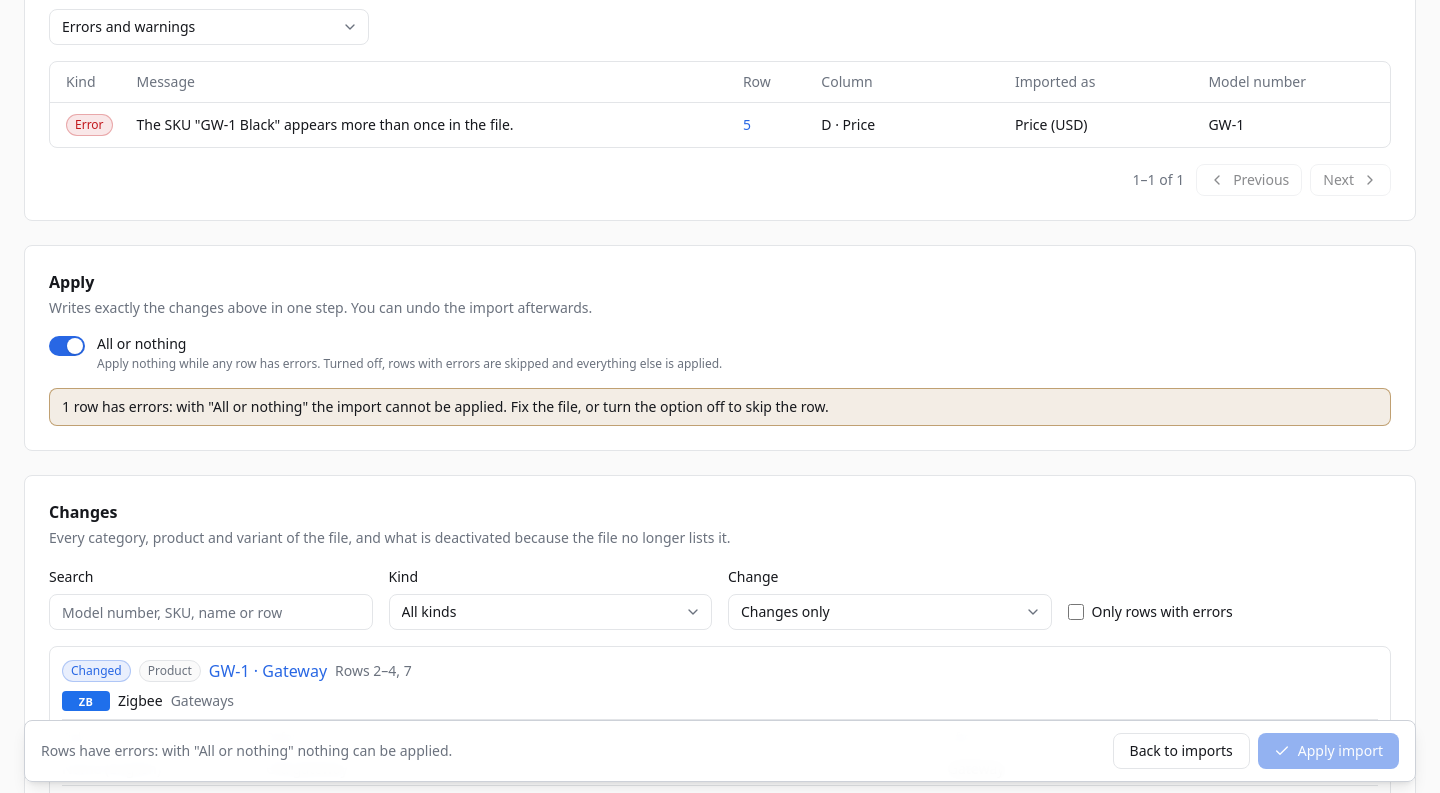
Test: PreviewStep: apply and the run › disables Apply with its reason while rows have errors and all or nothing is on; shows when it was previewed and the file
The width and height of the screenshot is (1440, 793).
(page scrolled)
Check: the button "Apply import" is disabled, box [1258, 733, 1399, 769]
Click the switch labelled "All or nothing". click: [67, 346]
box: [49, 336, 85, 356]
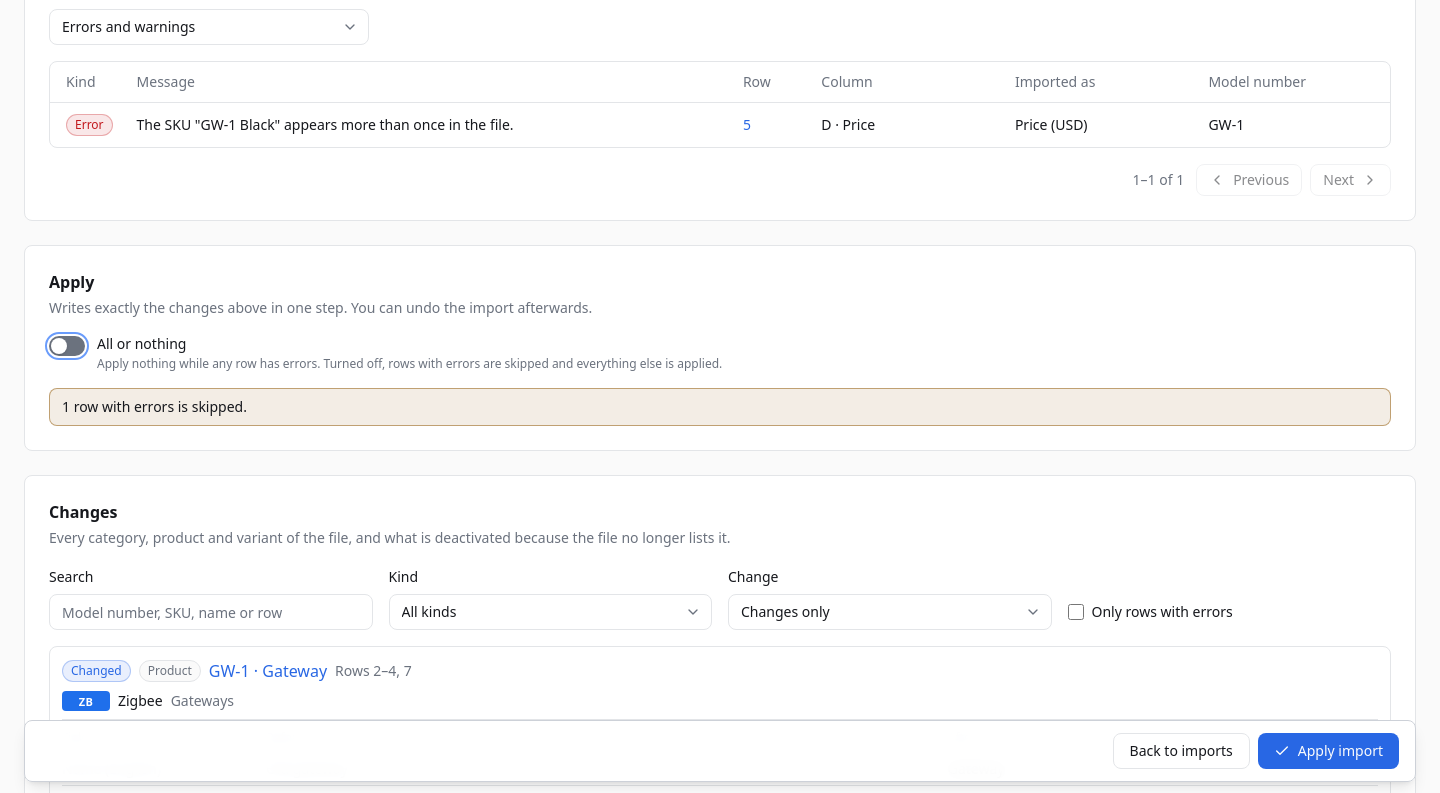
Check: the button "Apply import" is enabled, box [1258, 733, 1399, 769]
